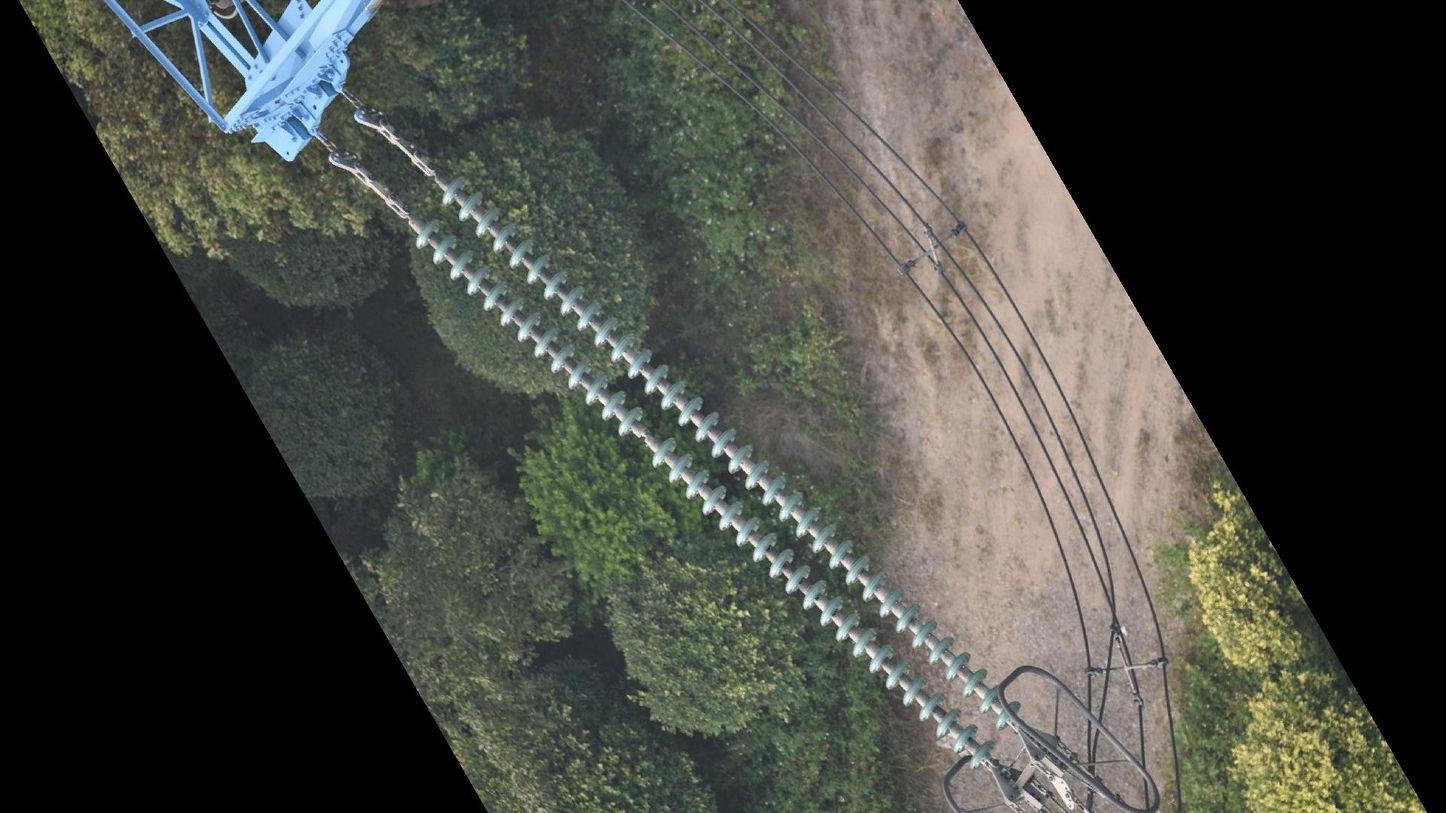insulator: (409, 169, 1028, 776)
insulator_stringdrop: (614, 402, 681, 471)
